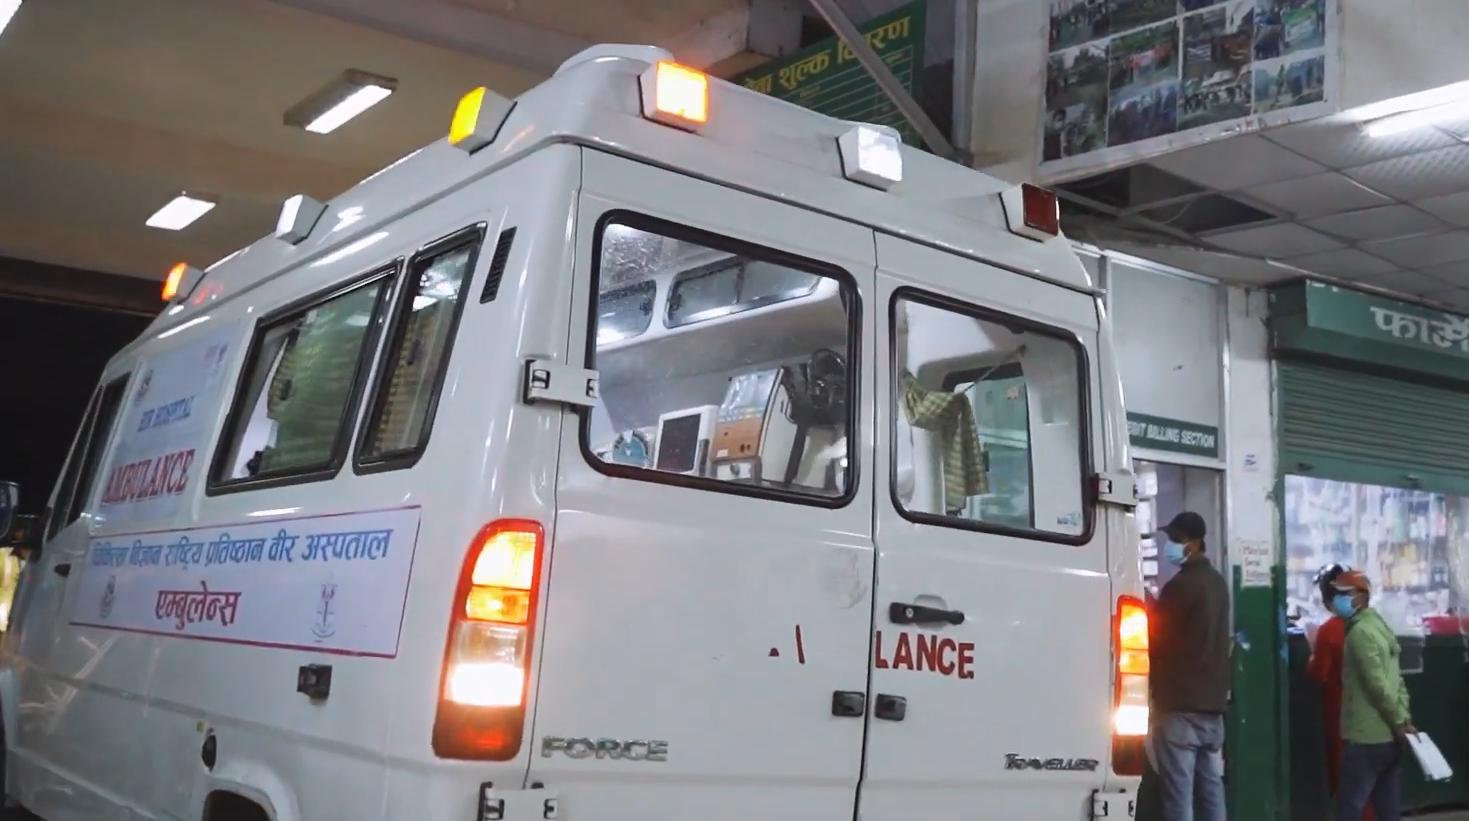ambulance: (0, 37, 1152, 821)
